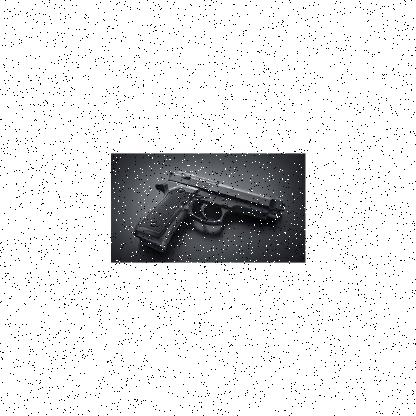gun: (132, 168, 284, 249)
